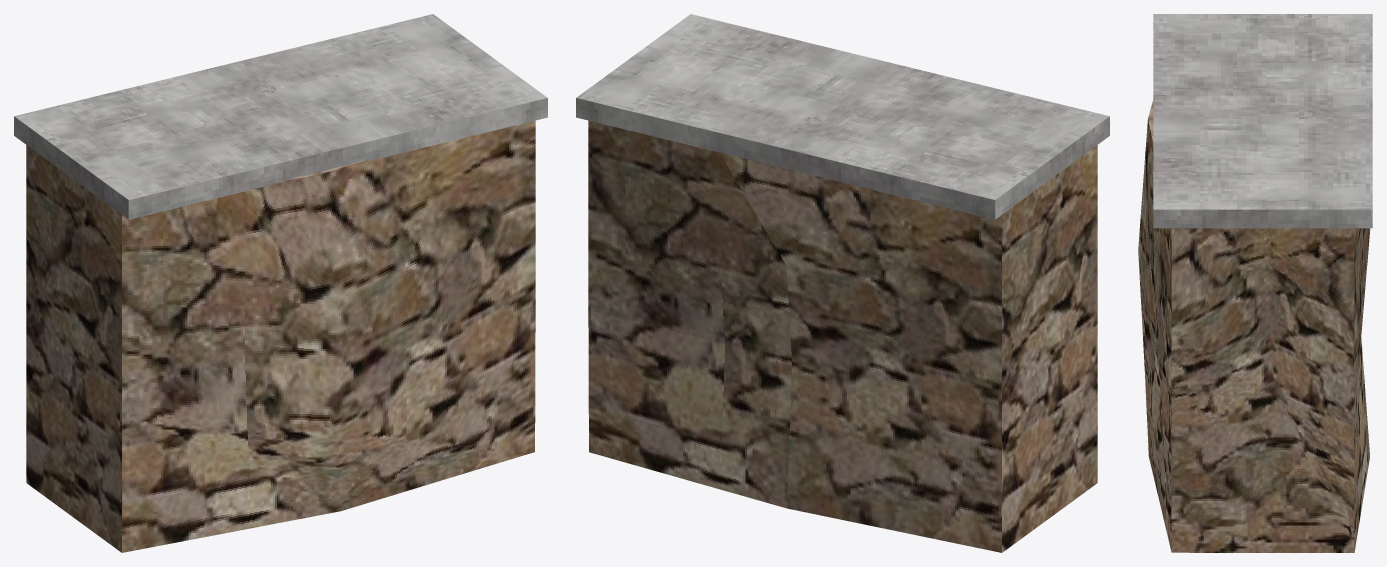
The model's file is lf_drystone_wall_half_capped.glb.
The picture shows the model from 3 angles, left to right: view 1: azimuth 30°, elevation 25°; view 2: azimuth 150°, elevation 25°; view 3: azimuth 270°, elevation 25°; orthographic projection. The views are drawn at different scales.
Parts seen in each view (by area): view 1: drystone_wall_half_capped; view 2: drystone_wall_half_capped; view 3: drystone_wall_half_capped.
Part boxes in pixels (x1,y1,x2,y2): drystone_wall_half_capped: [14, 14, 547, 552]; drystone_wall_half_capped: [576, 14, 1109, 552]; drystone_wall_half_capped: [1138, 14, 1372, 552].
Bounding box in the file's own units: 1.01 × 0.8328 × 0.5134.
Materials: 2 (2 with a texture image).
